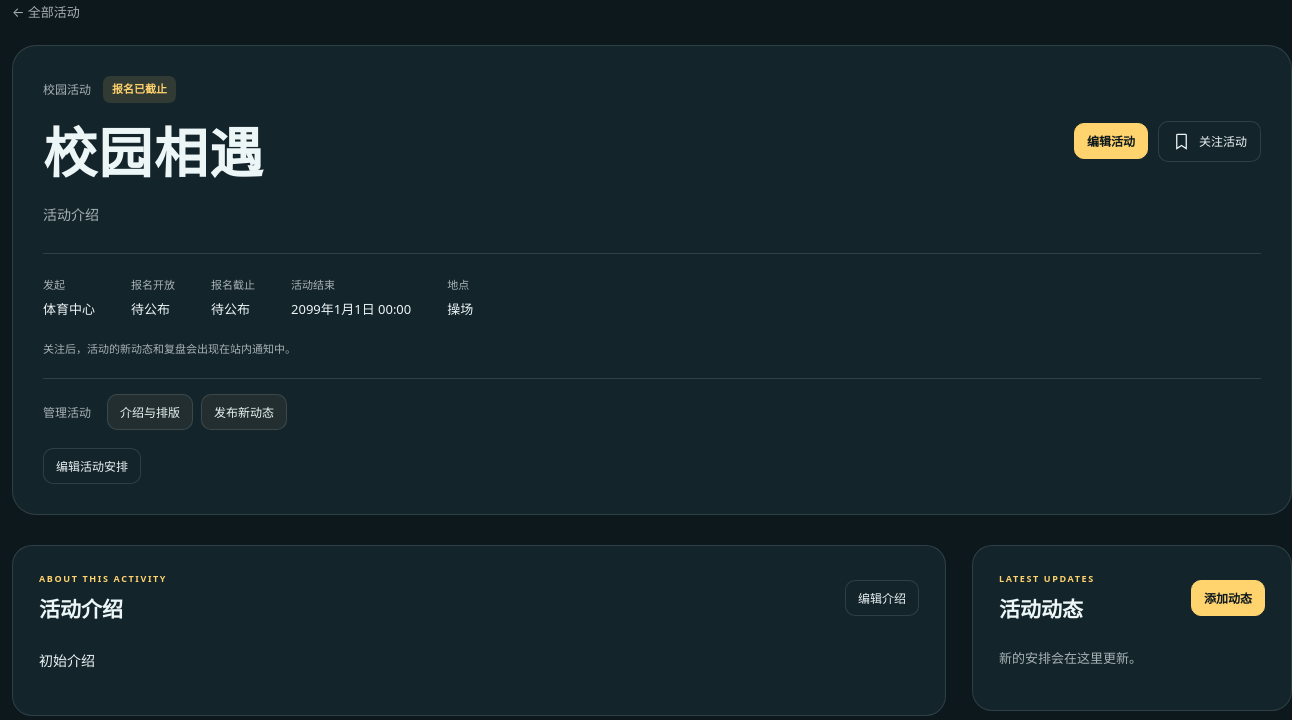
Test: independent activity workspace › offers a clear editing entry that opens introduction layout controls
Click the button "编辑活动": [1111, 141] box [1074,123,1148,159]
(page scrolled)
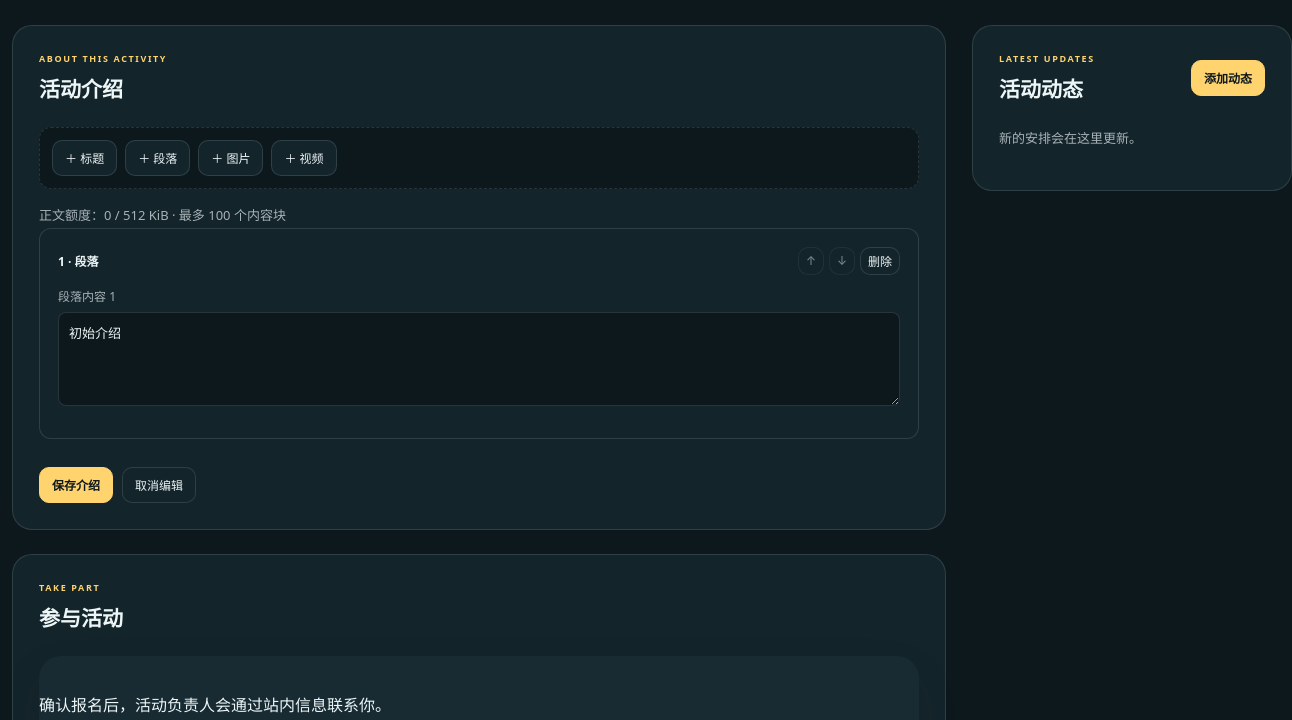
Result: the text box labelled "段落内容 1" holds "初始介绍" at [58,312,900,406]
Result: the button "保存介绍" is shown at [39,467,113,503]
